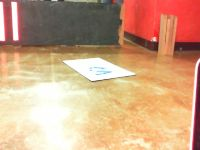switch: (11, 2, 19, 42), (1, 1, 6, 42)
